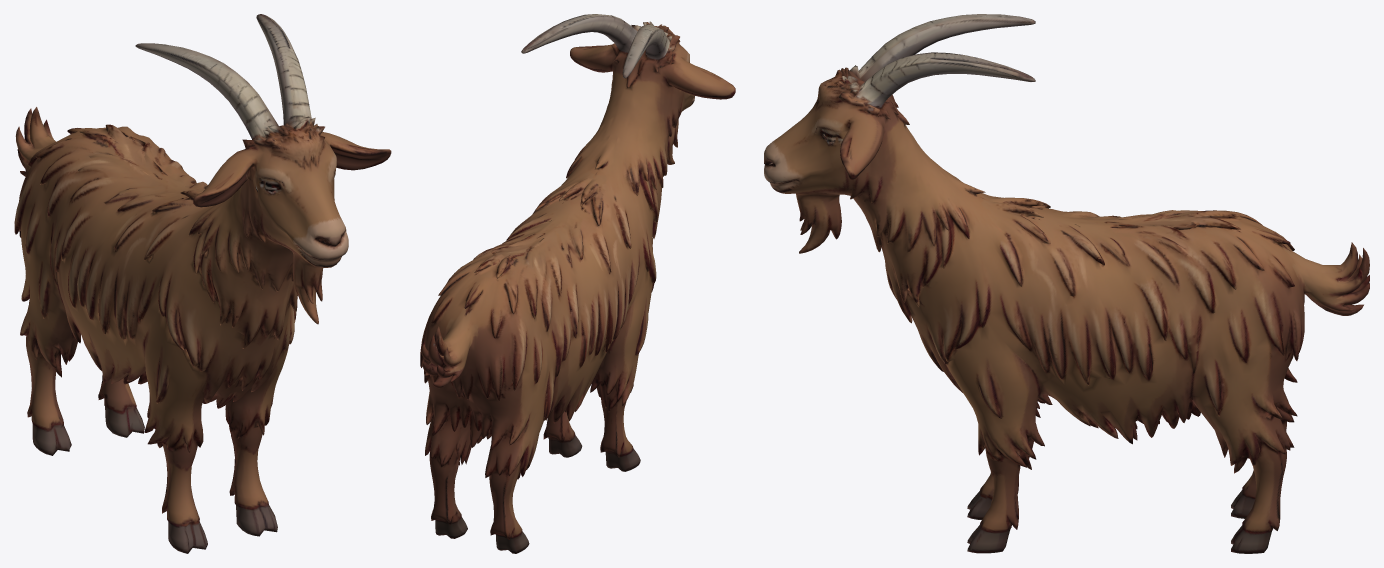
Rendered from cabra para usar.fbx.
3 renders of one model, left to right at view 1: azimuth 30°, elevation 25°; view 2: azimuth 150°, elevation 25°; view 3: azimuth 270°, elevation 25°, orthographic. The views are drawn at different scales.
Parts seen in each view (by area): view 1: mesh_rep_0_ori_repair_quad; view 2: mesh_rep_0_ori_repair_quad; view 3: mesh_rep_0_ori_repair_quad.
Boxes of the visible parts, x1,y1,x2,y2 form: mesh_rep_0_ori_repair_quad: (14,14,391,553); mesh_rep_0_ori_repair_quad: (420,14,735,553); mesh_rep_0_ori_repair_quad: (764,14,1369,553).
Bounding box in the file's own units: 137 × 333 × 371.
Materials: 1 (1 with a texture image).
